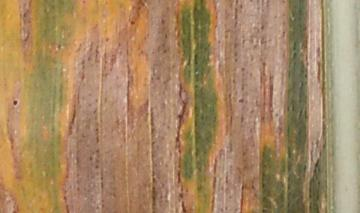tarspot: (9, 94, 20, 108)
